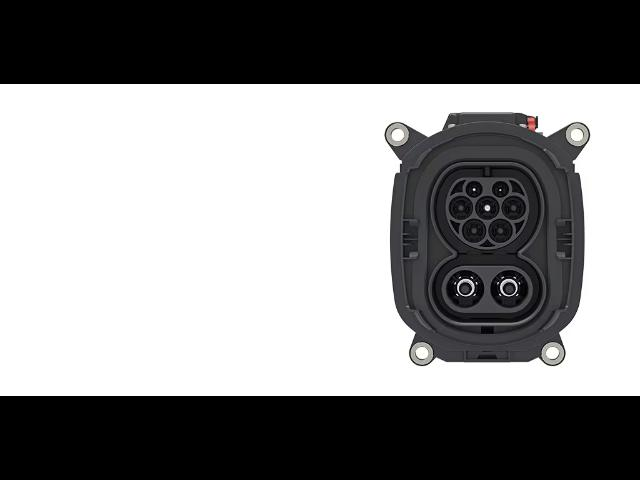inlet: (445, 178, 530, 250)
inlet-above-left: (465, 181, 483, 198)
inlet-above-right: (492, 181, 509, 198)
inlet-below-left: (462, 219, 486, 243)
inlet-below-right: (489, 219, 513, 243)
inlet-circle: (475, 196, 499, 221)
inlet-circle-left: (449, 196, 473, 220)
inlet-circle-right: (501, 196, 526, 221)
inlet-minus: (490, 270, 529, 309)
inlet-plus: (446, 271, 484, 309)
